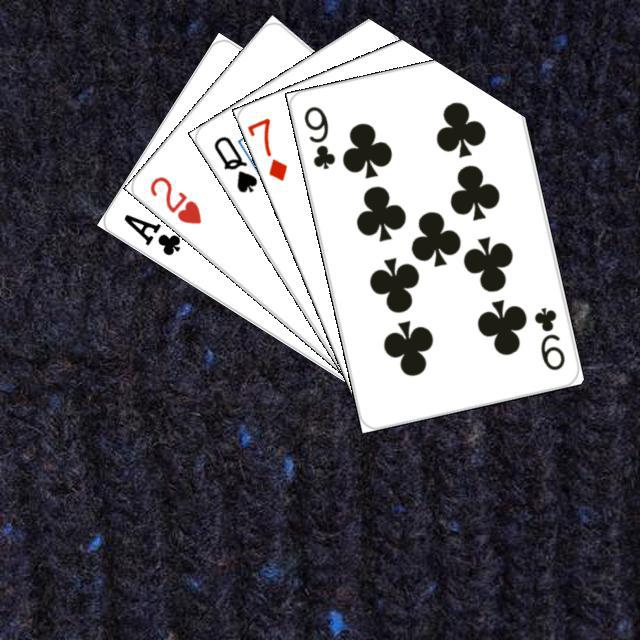2h: (144, 171, 203, 226)
7d: (244, 112, 289, 183)
9c: (299, 101, 337, 171), (529, 303, 567, 372)
Ac: (118, 208, 183, 258)
Qs: (208, 131, 260, 195)
